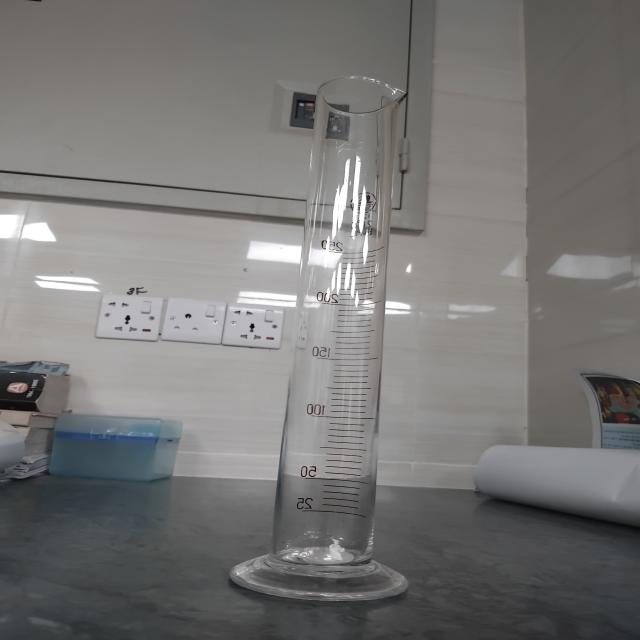Measuring_Cylinder: (204, 34, 435, 640)
